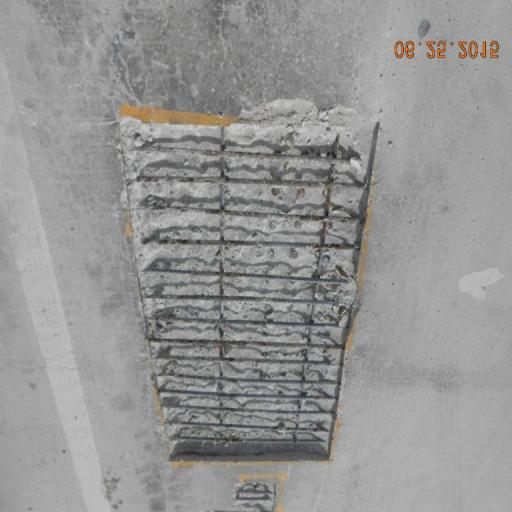spalling: (97, 94, 399, 474), (226, 476, 290, 512)
